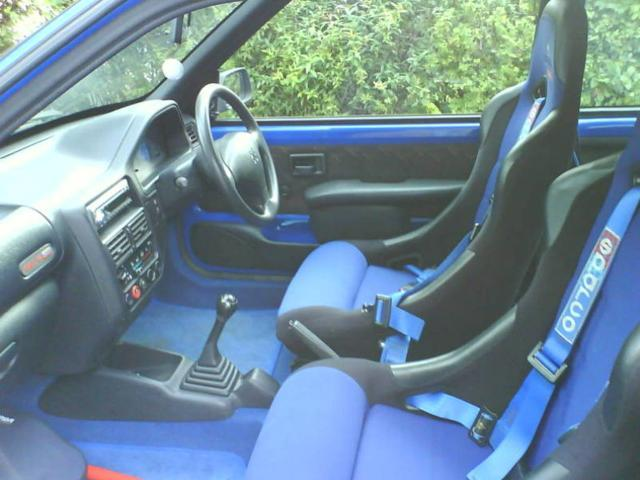Seatbelt: (462, 185, 638, 479), (372, 229, 476, 369)
